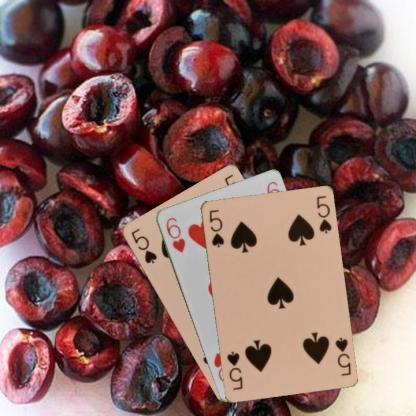5s: (128, 225, 158, 265), (332, 334, 352, 378), (207, 206, 226, 249)
6h: (163, 214, 187, 254)
